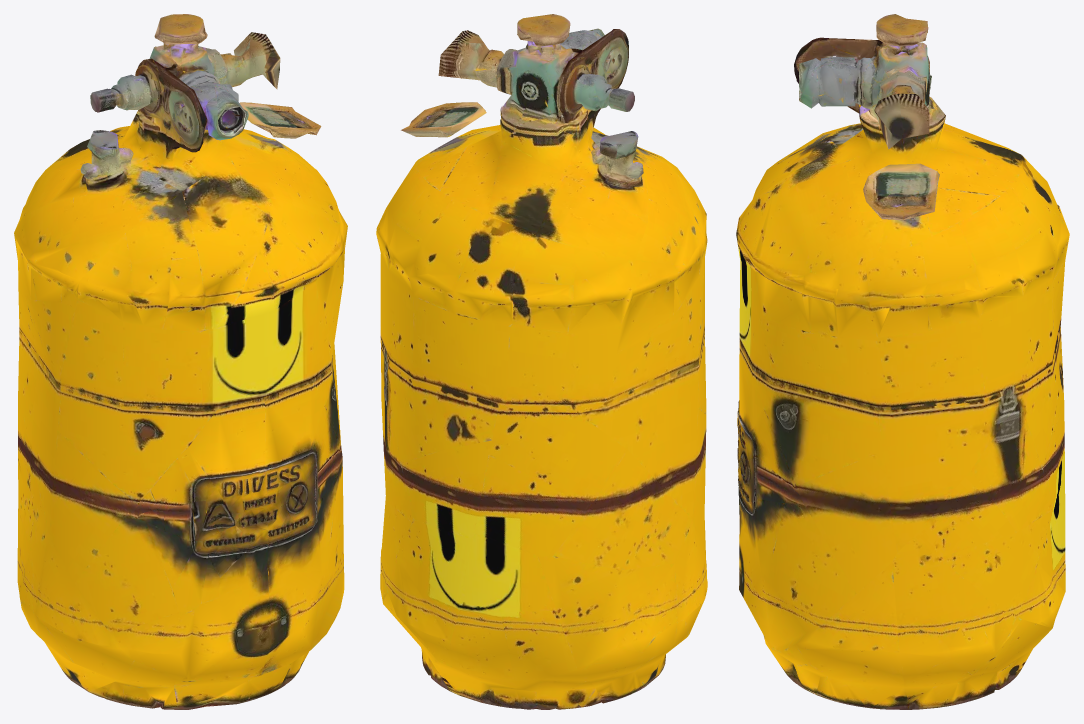
Rendered from reef-o2-tank.glb.
The picture shows the model from 3 angles, left to right: view 1: azimuth 30°, elevation 25°; view 2: azimuth 150°, elevation 25°; view 3: azimuth 270°, elevation 25°; orthographic projection.
Visible parts, largest first — view 1: Mesh_0; view 2: Mesh_0; view 3: Mesh_0.
Boxes of the visible parts, bbox=[...] form: Mesh_0: bbox=[14, 14, 347, 709]; Mesh_0: bbox=[376, 14, 707, 709]; Mesh_0: bbox=[736, 14, 1069, 709].
Size of the model in its own units: 0.9063 by 1.9 by 0.905.
1 material, 1 textured.
